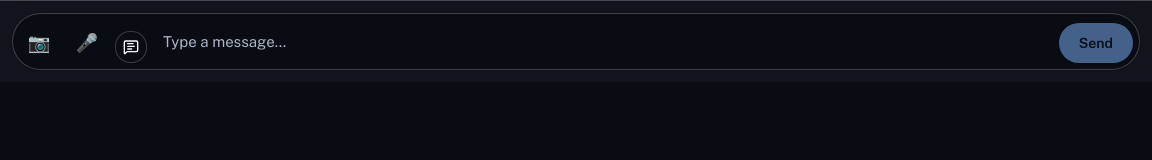
Test: MessageInput — a text message › KEEPS the text when the send fails
Type "Un mensaje largo que no quiero reescribir" into the text box named "Message text".
click(603, 42); type("Un mensaje largo que no quiero reescribir")  # box x1=155 y1=20 x2=1051 y2=63
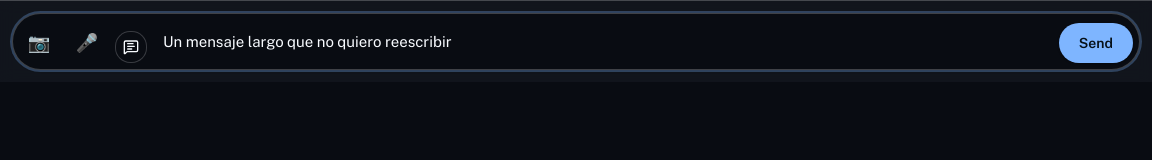
Click the button "Send".
click(1096, 43)  # box x1=1059 y1=23 x2=1133 y2=63
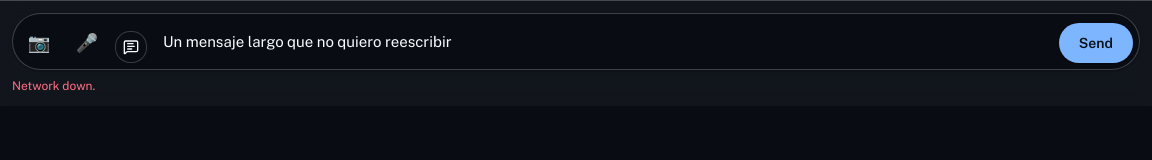
Expected: the text "Network down." is shown, x1=12 y1=79 x2=95 y2=93
